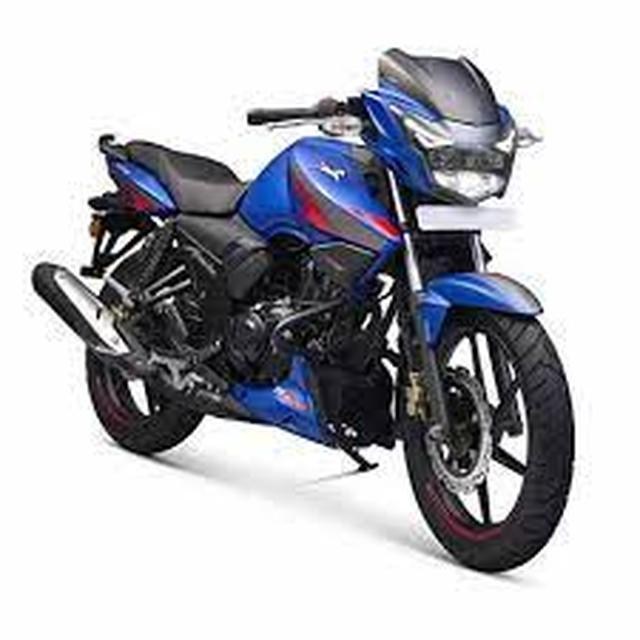motorcycle: (27, 39, 583, 579)
